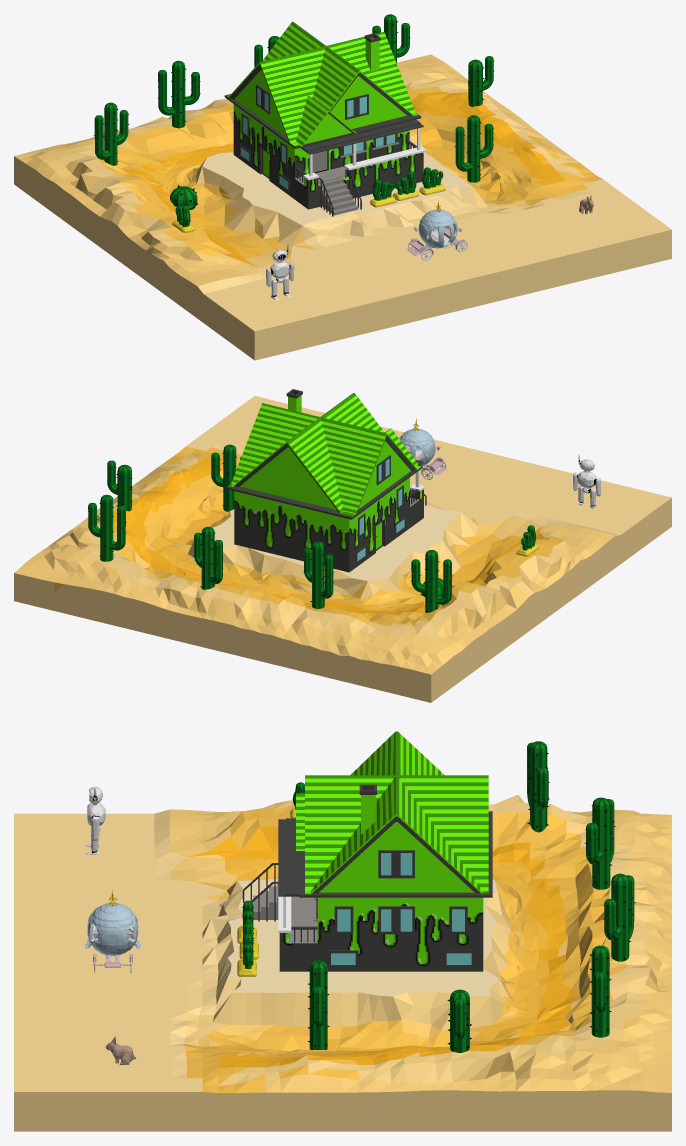
3 views of the same model, one above another, from view 1: azimuth 30°, elevation 25°; view 2: azimuth 150°, elevation 25°; view 3: azimuth 270°, elevation 25° (orthographic). The views are drawn at different scales.
Visible parts, largest first — view 1: Cube.001, Cube.754, VEHICLES_FANTASY_CARRIAGE, Cylinder.037, Cylinder.044, Cylinder.045, Cylinder.038, OBJRANDOM_PLATZEEBOT, Cylinder.042, Cylinder.039, Cylinder.041, Sphere.023 (+1 smaller); view 2: Cube.001, Cube.754, Cylinder.042, Cylinder.045, Cylinder.044, Cylinder.043, VEHICLES_FANTASY_CARRIAGE, Cylinder.037, Cylinder.038, OBJRANDOM_PLATZEEBOT; view 3: Cube.001, Cube.754, VEHICLES_FANTASY_CARRIAGE, Cylinder.043, Cylinder.044, Cylinder.045, Cylinder.042, Cylinder.037, Cylinder.038, OBJRANDOM_PLATZEEBOT, Cylinder.041.
Boxes of the visible parts, x1=… form: Cube.001: x1=14, y1=54, x2=671, y2=360; Cube.754: x1=224, y1=21, x2=426, y2=216; VEHICLES_FANTASY_CARRIAGE: x1=407, y1=200, x2=467, y2=260; Cylinder.037: x1=454, y1=115, x2=493, y2=182; Cylinder.044: x1=158, y1=60, x2=200, y2=128; Cylinder.045: x1=94, y1=102, x2=129, y2=165; Cylinder.038: x1=468, y1=56, x2=494, y2=106; OBJRANDOM_PLATZEEBOT: x1=266, y1=245, x2=294, y2=300; Cylinder.042: x1=372, y1=14, x2=410, y2=63; Cylinder.039: x1=370, y1=179, x2=396, y2=207; Cylinder.041: x1=419, y1=167, x2=445, y2=195; Sphere.023: x1=170, y1=185, x2=197, y2=209; Cube.001: x1=14, y1=396, x2=671, y2=702; Cube.754: x1=226, y1=389, x2=426, y2=572; Cylinder.042: x1=88, y1=494, x2=126, y2=561; Cylinder.045: x1=411, y1=550, x2=452, y2=612; Cylinder.044: x1=303, y1=541, x2=333, y2=608; Cylinder.043: x1=194, y1=526, x2=222, y2=589; VEHICLES_FANTASY_CARRIAGE: x1=399, y1=418, x2=446, y2=479; Cylinder.037: x1=211, y1=444, x2=241, y2=511; Cylinder.038: x1=107, y1=460, x2=132, y2=511; OBJRANDOM_PLATZEEBOT: x1=573, y1=454, x2=600, y2=508; Cube.001: x1=14, y1=794, x2=671, y2=1131; Cube.754: x1=242, y1=731, x2=492, y2=971; VEHICLES_FANTASY_CARRIAGE: x1=85, y1=889, x2=140, y2=972; Cylinder.043: x1=603, y1=873, x2=635, y2=961; Cylinder.044: x1=585, y1=797, x2=615, y2=889; Cylinder.045: x1=527, y1=741, x2=549, y2=832; Cylinder.042: x1=589, y1=945, x2=611, y2=1037; Cylinder.037: x1=307, y1=960, x2=329, y2=1049; Cylinder.038: x1=447, y1=989, x2=471, y2=1052; OBJRANDOM_PLATZEEBOT: x1=85, y1=786, x2=105, y2=855; Cylinder.041: x1=237, y1=933, x2=256, y2=976.
Bounding box in the file's own units: 4002 × 1778 × 4001.
29 materials, 3 textured.
